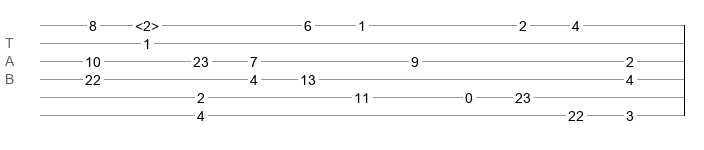0: (465, 90, 473, 100)
1: (143, 36, 151, 46), (358, 18, 366, 28)
10: (85, 54, 101, 64)
11: (354, 90, 370, 100)
13: (300, 72, 316, 82)
2: (197, 90, 205, 100), (519, 18, 527, 28), (626, 54, 634, 64)
22: (85, 72, 101, 82), (568, 108, 584, 118)
23: (193, 54, 209, 64), (515, 90, 531, 100)
3: (626, 108, 634, 118)
4: (197, 108, 205, 118), (250, 72, 258, 82), (572, 18, 580, 28), (626, 72, 634, 82)
6: (304, 18, 312, 28)
7: (250, 54, 258, 64)
8: (89, 18, 97, 28)
9: (411, 54, 419, 64)
harmonic: (135, 18, 159, 28)
